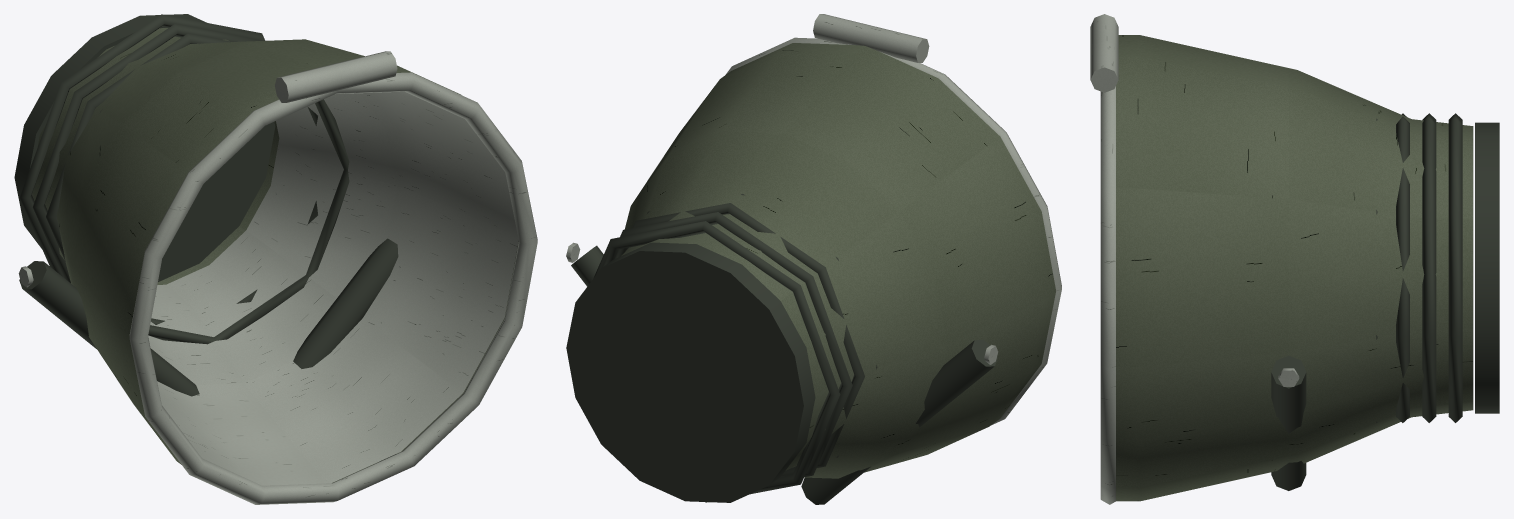
The model's file is SM_FieldKit_LampHead_LOD1.fbx.
3 views of the same model, side by side, from view 1: azimuth 30°, elevation 25°; view 2: azimuth 150°, elevation 25°; view 3: azimuth 270°, elevation 25° (orthographic). The views are drawn at different scales.
Visible parts, largest first — view 1: SM_FieldKit_LampHead_LOD1; view 2: SM_FieldKit_LampHead_LOD1; view 3: SM_FieldKit_LampHead_LOD1.
Part boxes in pixels (x1,y1,x2,y2): SM_FieldKit_LampHead_LOD1: [14, 14, 537, 504]; SM_FieldKit_LampHead_LOD1: [566, 14, 1061, 504]; SM_FieldKit_LampHead_LOD1: [1090, 14, 1499, 504].
Size of the model in its own units: 0.2961 by 0.233 by 0.278.
